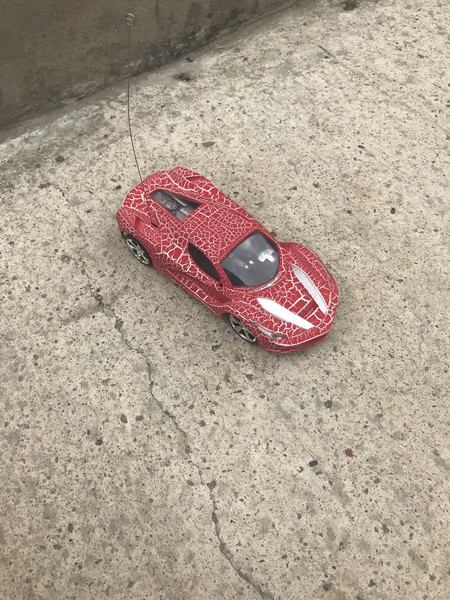RC: (116, 165, 341, 357)
